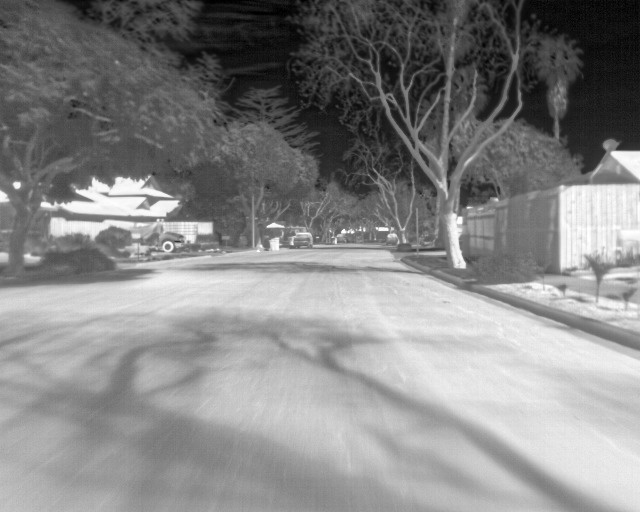car: (154, 222, 200, 262), (285, 222, 318, 250), (380, 230, 403, 251)
